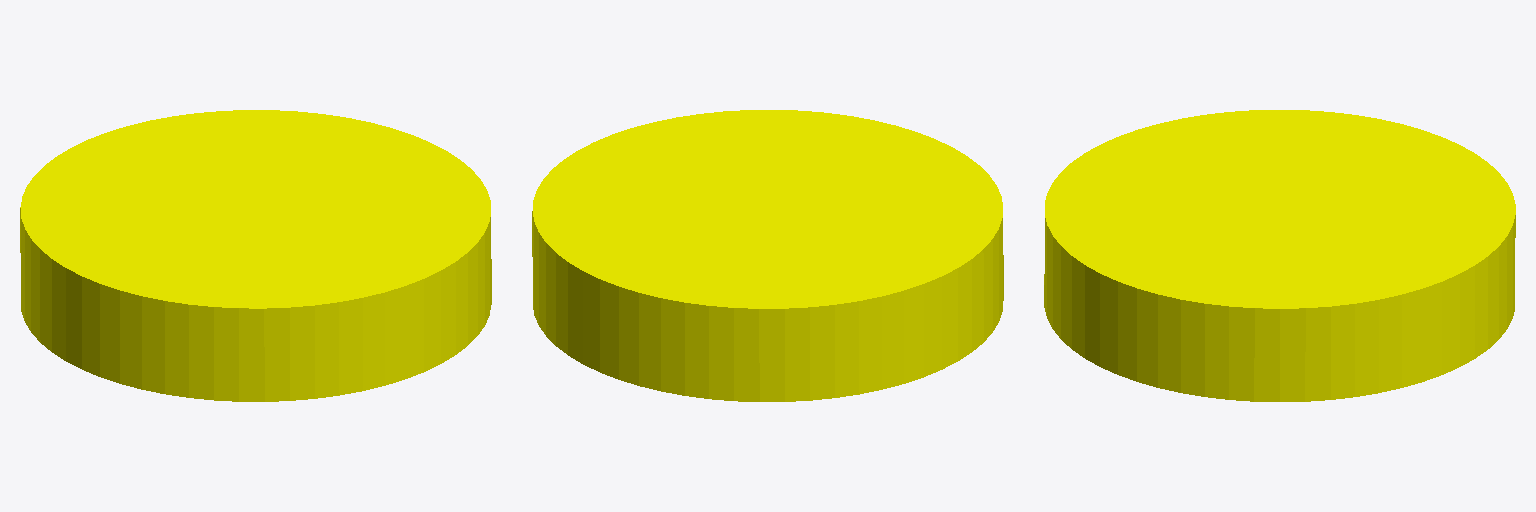
URDF robot description (robot):
<?xml version="1.0"?>
<robot>
    <!-- token -->
    <link name="token_link">
        <visual>
            <origin xyz="-0.016 0.016 0" rpy="1.57 0 0" />
            <geometry>
                <mesh filename="package://ece383-final-project/meshes/visual/token.stl" scale="0.001 0.001 0.001"/>
            </geometry>
            <material name="">
                <color rgba="1 1 0 1" />
            </material>
        </visual>

        <collision>
            <origin xyz="-0.016 0.016 0" rpy="1.57 0 0" />
            <geometry>
                <mesh filename="package://ece383-final-project/meshes/visual/token.stl" scale="0.001 0.001 0.001"/>
            </geometry>
        </collision>

        <inertial>
            <mass value="1" />
            <origin xyz="0 0 0" rpy="0 0 0"/>
            <inertia ixx="1e-1" ixy="0" ixz="0" iyy="1e-1" iyz="0" izz="1e-1" />
        </inertial>
    </link>

    <gazebo reference="token_link">
        <material>Gazebo/Yellow</material>
    </gazebo>
</robot>

--- Facts derived from the render (not from the file) ---
The picture shows the robot from 3 angles, left to right: view 1: azimuth 30°, elevation 25°; view 2: azimuth 150°, elevation 25°; view 3: azimuth 270°, elevation 25°; orthographic projection.
Model robot with 1 links and 0 joints (none), rooted at token_link, posed every joint at zero.
Links seen in each view (by area): view 1: token_link; view 2: token_link; view 3: token_link.
Link boxes in pixels (x1,y1,x2,y2): token_link: (20, 110, 491, 401); token_link: (532, 110, 1003, 401); token_link: (1044, 110, 1515, 401).
Bounding box of the posed robot: 0.032 × 0.032 × 0.007 m (x, y, z).
1 mesh visuals loaded from 1 distinct referenced files (1 binary STL).